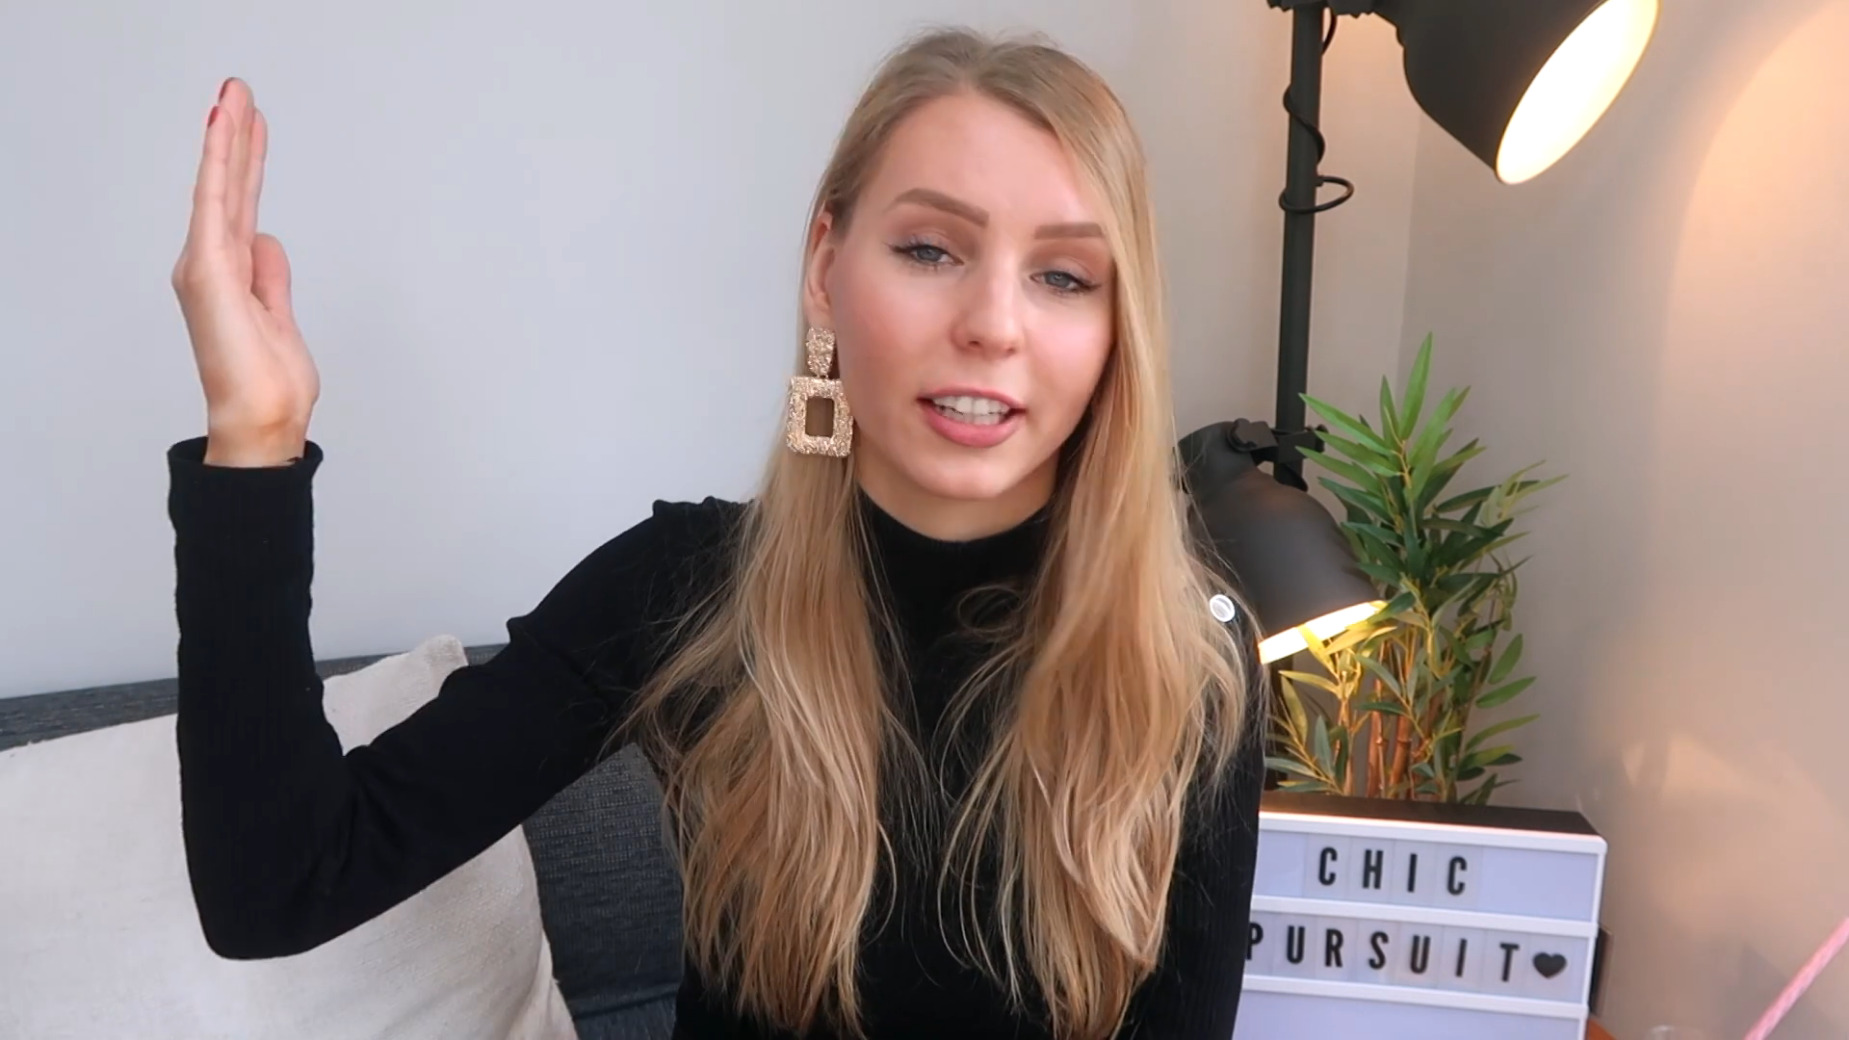hand: (164, 69, 353, 436)
